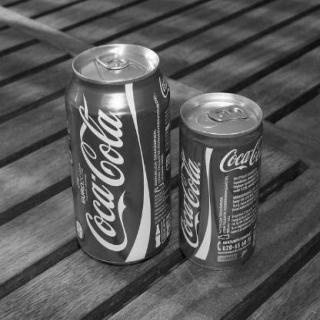alumunium_can: (64, 43, 171, 266), (178, 92, 264, 271)
